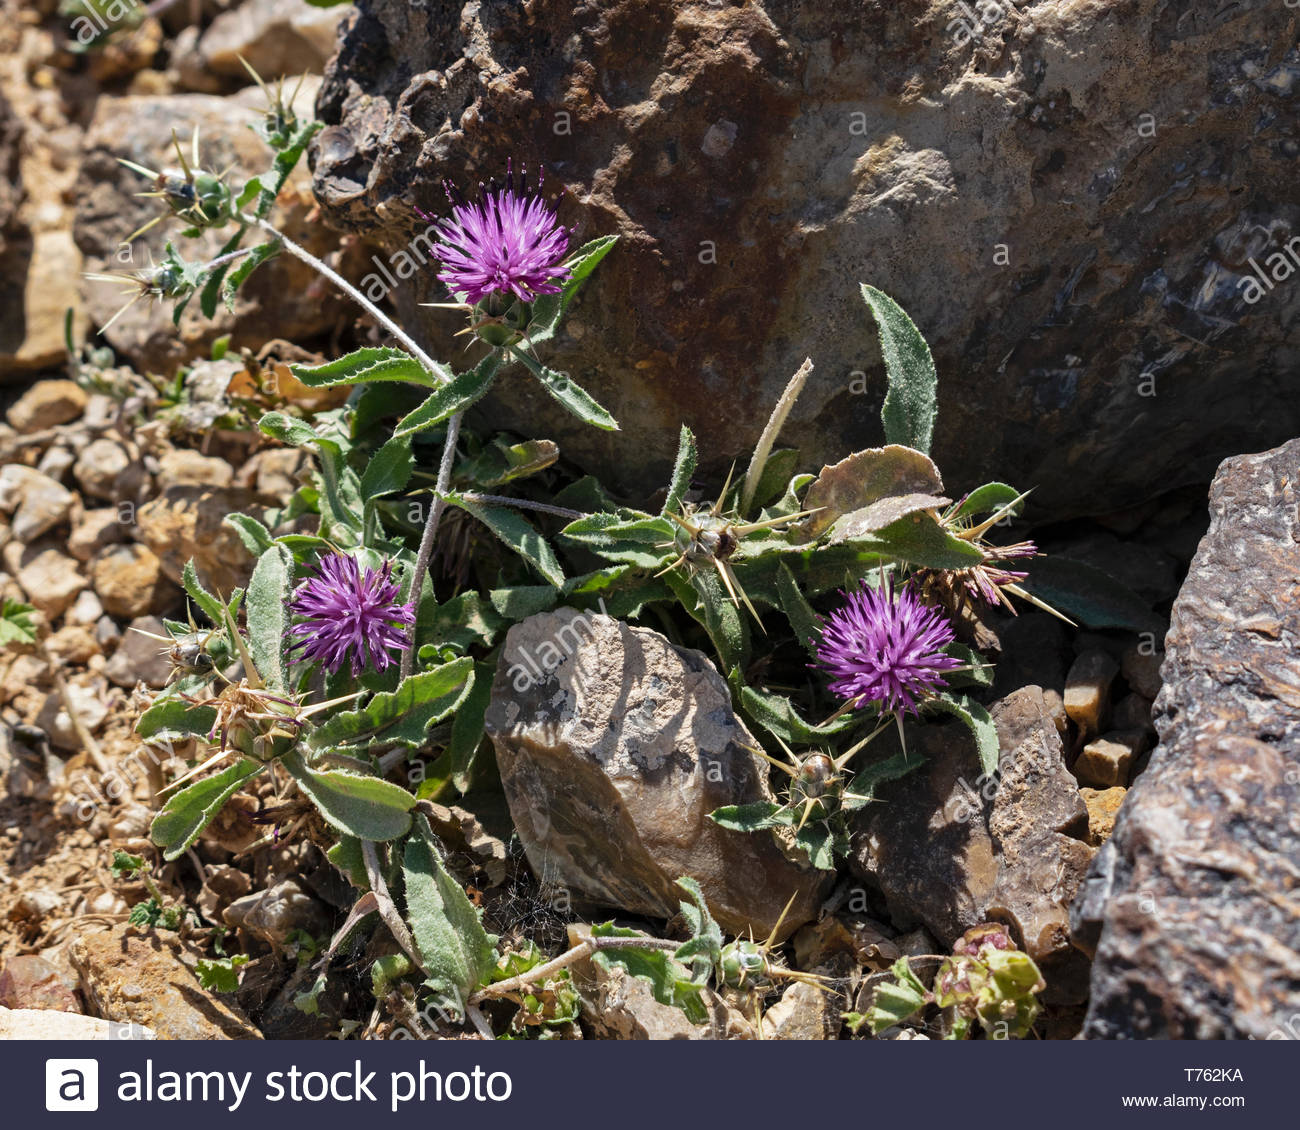thistle: (428, 199, 570, 350), (816, 582, 960, 722), (298, 561, 416, 694)
